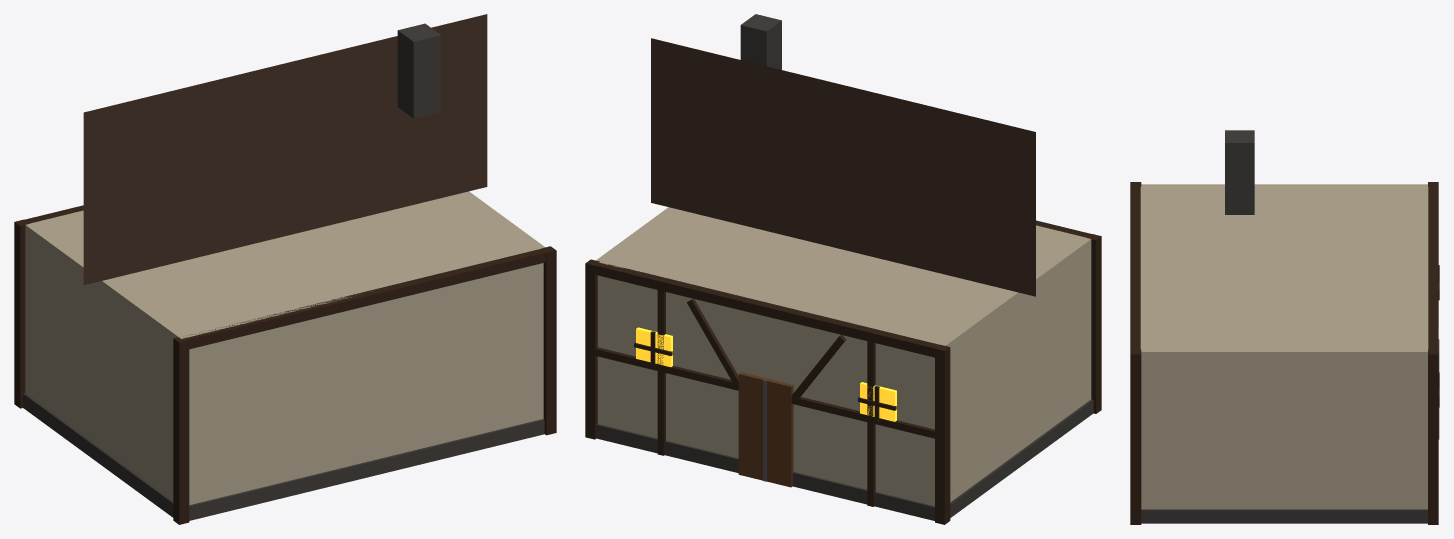
The model's file is house_b.glb.
3 views of the same model, side by side, from view 1: azimuth 30°, elevation 25°; view 2: azimuth 150°, elevation 25°; view 3: azimuth 270°, elevation 25° (orthographic). The views are drawn at different scales.
Parts seen in each view (by area): view 1: house_b; view 2: house_b; view 3: house_b.
Boxes of the visible parts, x1,y1,x2,y2 form: house_b: (14,14,556,524); house_b: (585,14,1101,524); house_b: (1130,130,1439,524).
Size of the model in its own units: 8.8 by 7.84 by 6.24.
